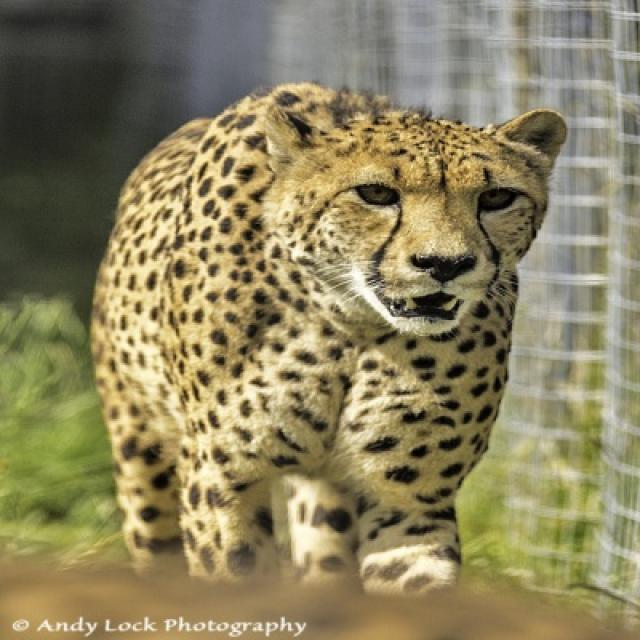Cheetah: (88, 82, 570, 602)
